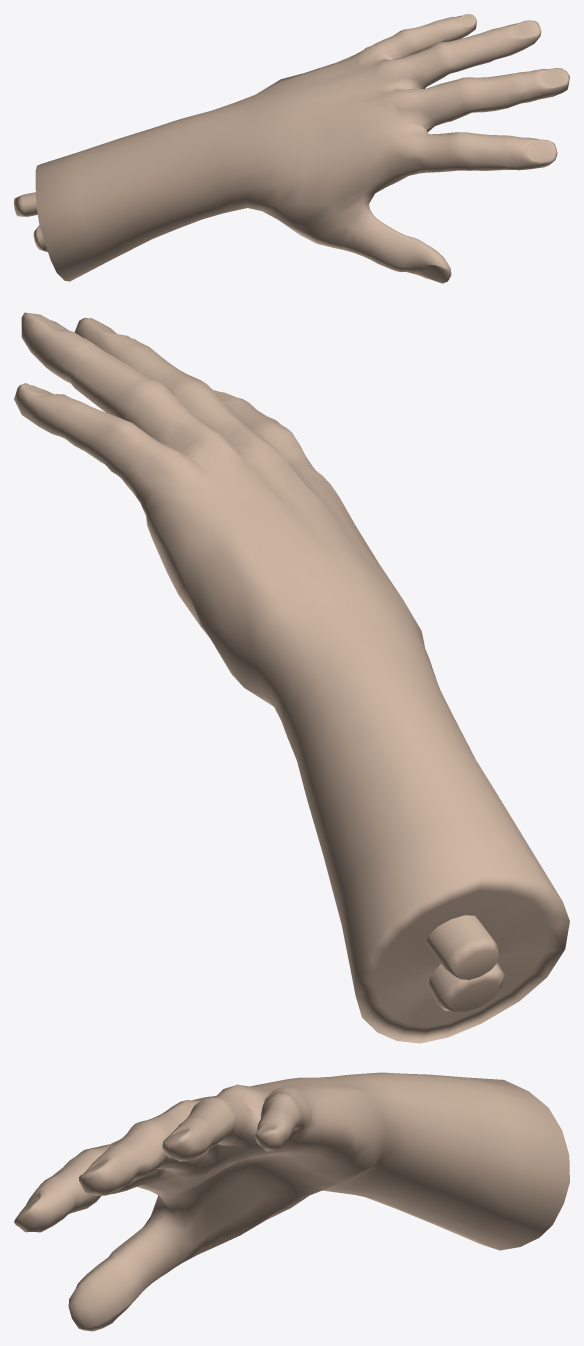
File: Hand_cut_off5fbx.fbx
3 views of the same model, one above another, from view 1: azimuth 30°, elevation 25°; view 2: azimuth 150°, elevation 25°; view 3: azimuth 270°, elevation 25° (orthographic). The views are drawn at different scales.
Visible parts, largest first — view 1: hand, Arm_Cut_off:polySurface3; view 2: hand, Arm_Cut_off:polySurface3, Arm_Cut_off:polySurface2; view 3: hand.
Part boxes in pixels (box(x1,y1,x2,y2)): hand: box(35, 14, 569, 283); Arm_Cut_off:polySurface3: box(14, 192, 37, 216); hand: box(14, 312, 569, 1043); Arm_Cut_off:polySurface3: box(426, 915, 498, 979); Arm_Cut_off:polySurface2: box(428, 962, 504, 1011); hand: box(14, 1072, 569, 1331).
Size of the model in its own units: 16.07 by 9.54 by 14.04.
